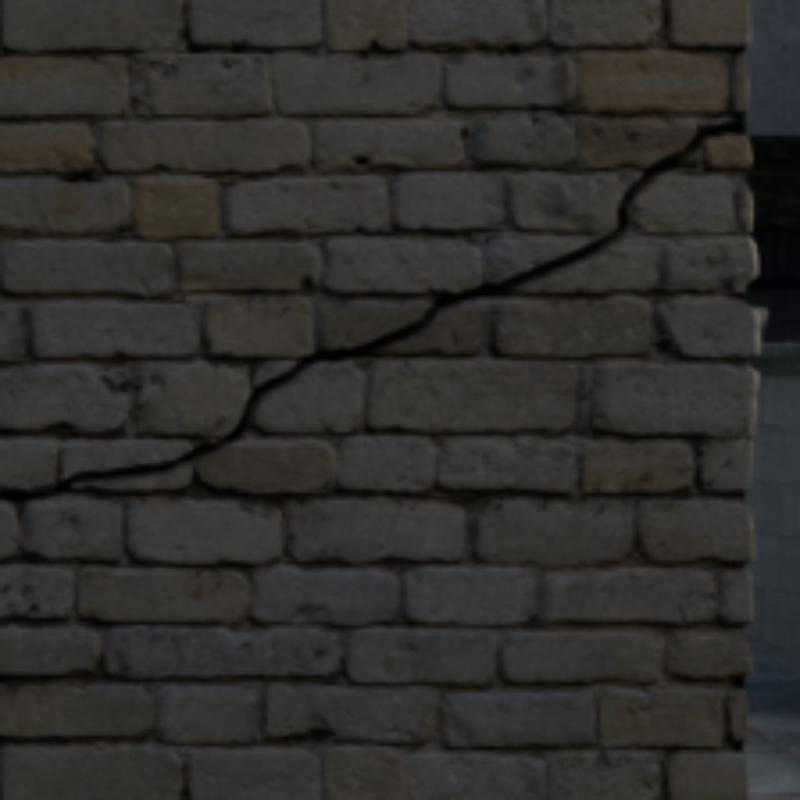crack: (0, 125, 739, 496)
